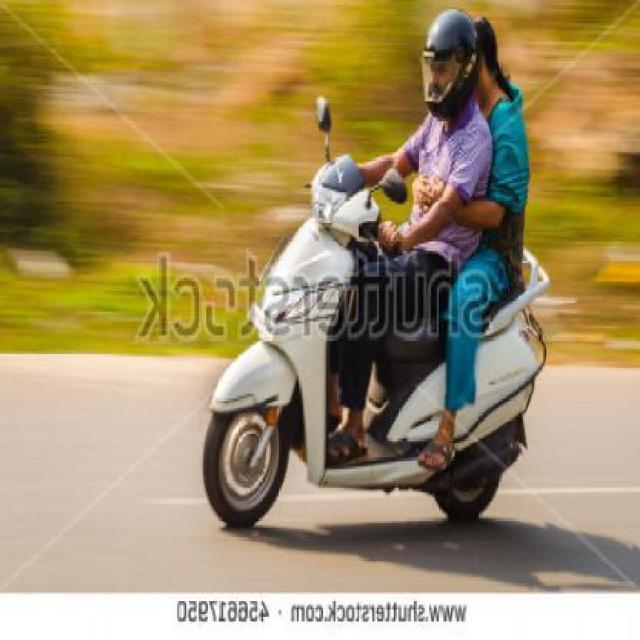motorcycle: (197, 7, 562, 528)
